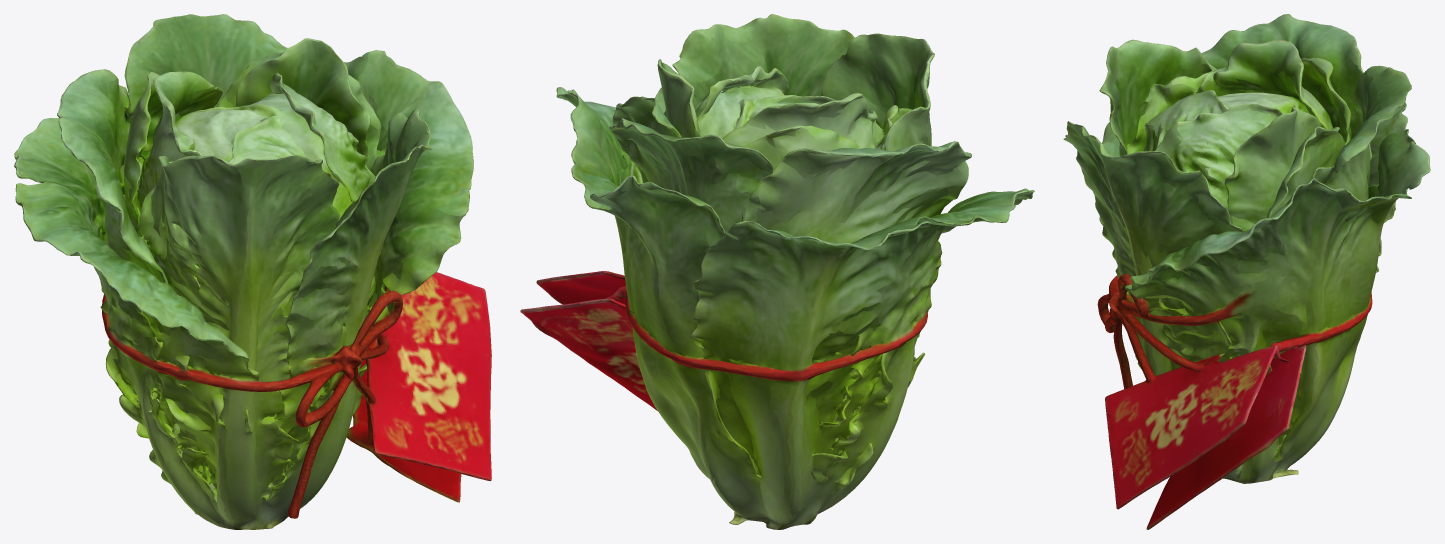
File: story-green.glb
3 renders of one model, left to right at view 1: azimuth 30°, elevation 25°; view 2: azimuth 150°, elevation 25°; view 3: azimuth 270°, elevation 25°, orthographic. The views are drawn at different scales.
Visible parts, largest first — view 1: world; view 2: world; view 3: world.
Part boxes in pixels (left/top/right/bottom): world: left=14, top=14, right=491, bottom=529; world: left=520, top=14, right=1034, bottom=529; world: left=1063, top=14, right=1430, bottom=529.
Bounding box in the file's own units: 0.3321 × 0.3 × 0.2525.
1 material, 1 textured.
